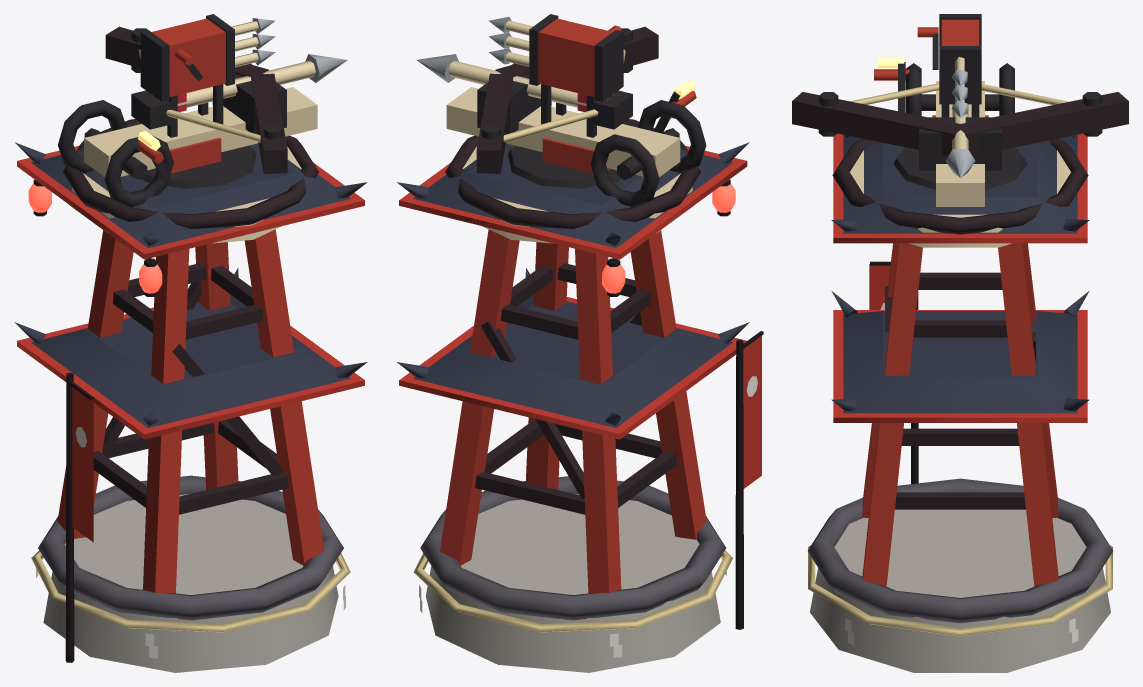
File: tower_ballista_repeater.glb
3 renders of one model, left to right at view 1: azimuth 30°, elevation 25°; view 2: azimuth 150°, elevation 25°; view 3: azimuth 270°, elevation 25°, orthographic.
Visible parts, largest first — view 1: base, deco_eave_1_roof, base_rim, leg_wn, leg_en, deco_eave_0_roof, stock, deco_eave_1_rim, deck_rim, deco_eave_0_rim, leg_ws, magazine (+32 smaller); view 2: base, deco_eave_1_roof, base_rim, leg_ws, leg_es, deco_eave_0_roof, leg_wn, stock, deco_eave_1_rim, deck_rim, deco_eave_0_rim, magazine (+31 smaller); view 3: base, deco_eave_1_roof, base_rim, deco_eave_0_roof, leg_en, leg_es, deck_rim, bow_arm_l, bow_arm_r, deco_eave_1_rim, deco_eave_0_rim, deco_shimenawa_rope (+20 smaller).
Part boxes in pixels (left/top/right/bottom): base: left=43, top=493, right=338, bottom=672; deco_eave_1_roof: left=31, top=294, right=350, bottom=427; base_rim: left=38, top=475, right=343, bottom=620; leg_wn: left=143, top=249, right=189, bottom=593; leg_en: left=244, top=229, right=324, bottom=565; deco_eave_0_roof: left=31, top=143, right=350, bottom=248; stock: left=84, top=87, right=317, bottom=176; deco_eave_1_rim: left=17, top=307, right=364, bottom=439; deck_rim: left=63, top=119, right=318, bottom=228; deco_eave_0_rim: left=17, top=146, right=364, bottom=259; leg_ws: left=57, top=230, right=133, bottom=538; magazine: left=151, top=18, right=225, bottom=96; base: left=425, top=494, right=720, bottom=672; deco_eave_1_roof: left=413, top=294, right=732, bottom=427; base_rim: left=420, top=476, right=725, bottom=620; leg_ws: left=575, top=249, right=621, bottom=593; leg_es: left=440, top=229, right=519, bottom=565; deco_eave_0_roof: left=413, top=143, right=732, bottom=247; leg_wn: left=630, top=230, right=706, bottom=539; stock: left=446, top=87, right=680, bottom=176; deco_eave_1_rim: left=399, top=297, right=746, bottom=439; deck_rim: left=445, top=119, right=701, bottom=228; deco_eave_0_rim: left=399, top=145, right=747, bottom=259; magazine: left=538, top=18, right=612, bottom=96; base: left=810, top=509, right=1110, bottom=672; deco_eave_1_roof: left=843, top=311, right=1077, bottom=413; base_rim: left=808, top=478, right=1112, bottom=623; deco_eave_0_roof: left=843, top=134, right=1077, bottom=233; leg_en: left=862, top=243, right=922, bottom=586; leg_es: left=998, top=243, right=1058, bottom=586; deck_rim: left=832, top=138, right=1088, bottom=234; bow_arm_l: left=792, top=92, right=964, bottom=155; bow_arm_r: left=957, top=92, right=1128, bottom=155; deco_eave_1_rim: left=833, top=310, right=1087, bottom=422; deco_eave_0_rim: left=833, top=133, right=1087, bottom=243; deco_shimenawa_rope: left=808, top=545, right=1112, bottom=636.
Bounding box in the file's own units: 0.4662 × 0.848 × 0.4469.
